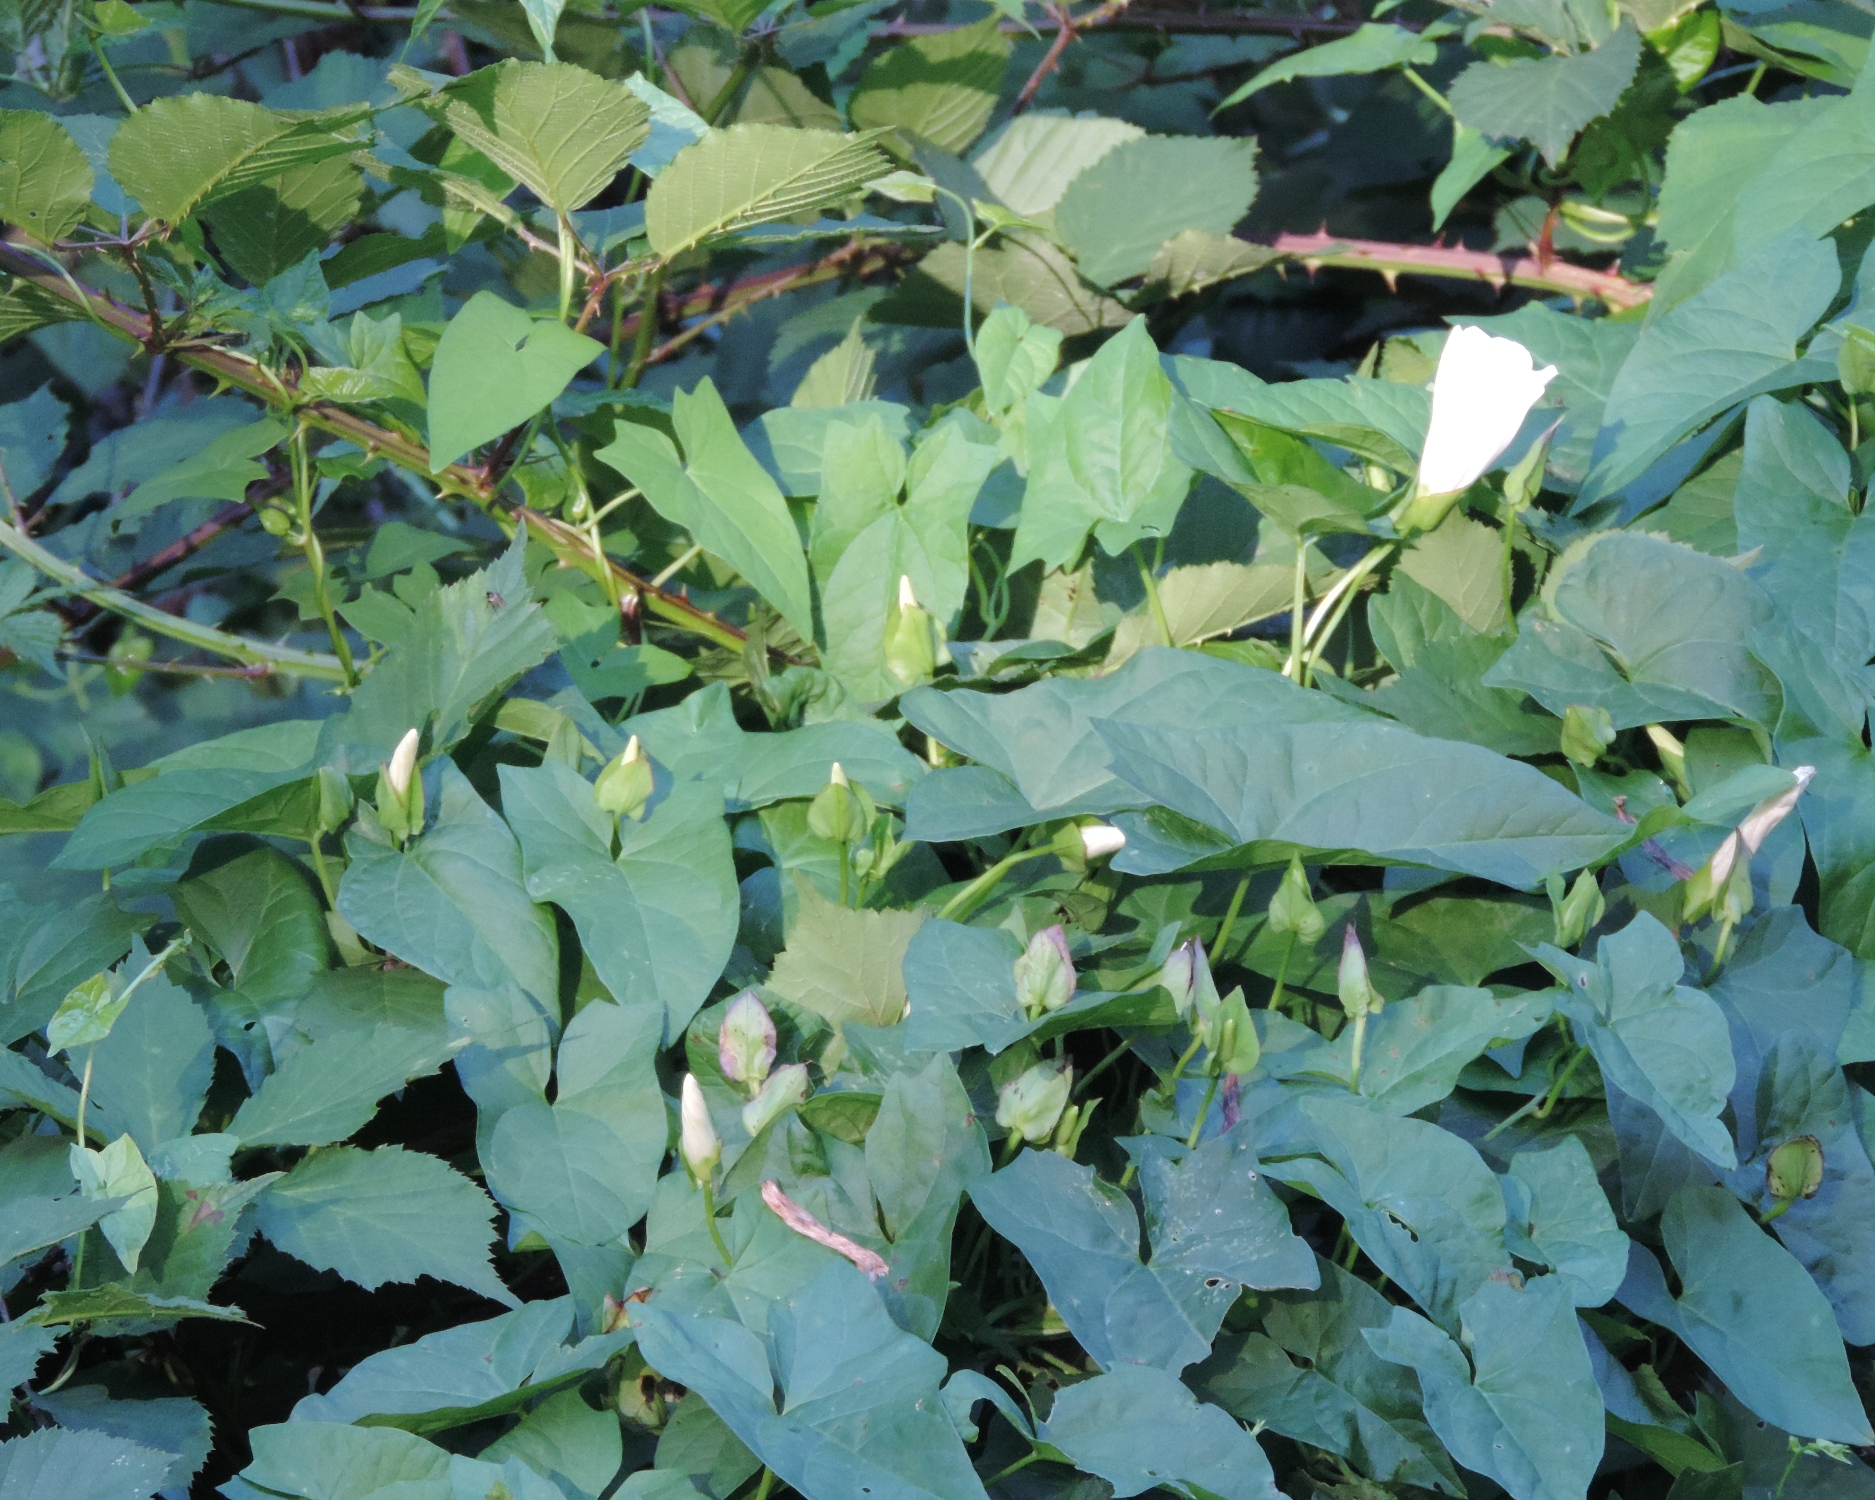haagwinde: (256, 530, 1863, 1192), (395, 265, 1205, 569), (1359, 269, 1596, 577)
